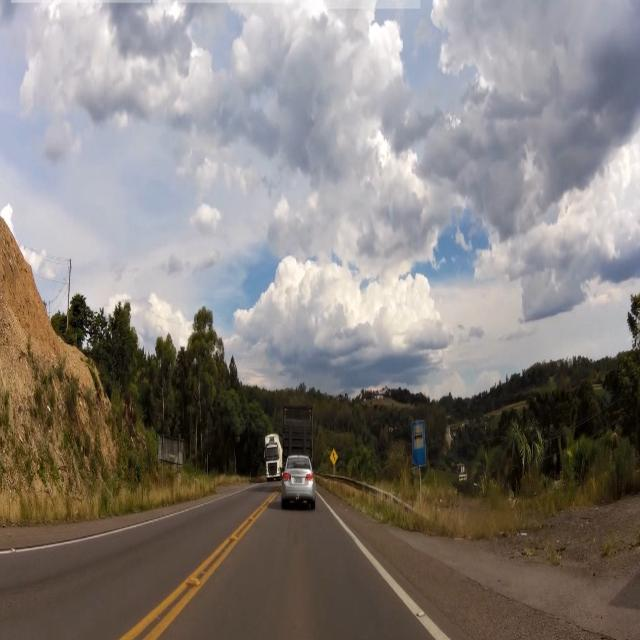S-14: (412, 421, 428, 470)
